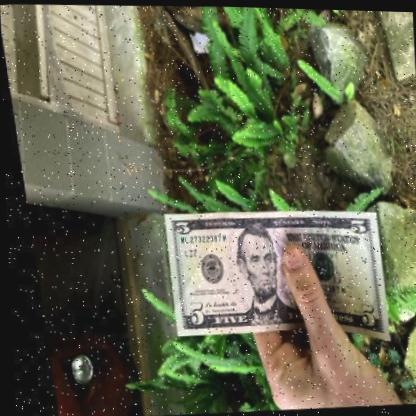five-front: (157, 212, 381, 342)
